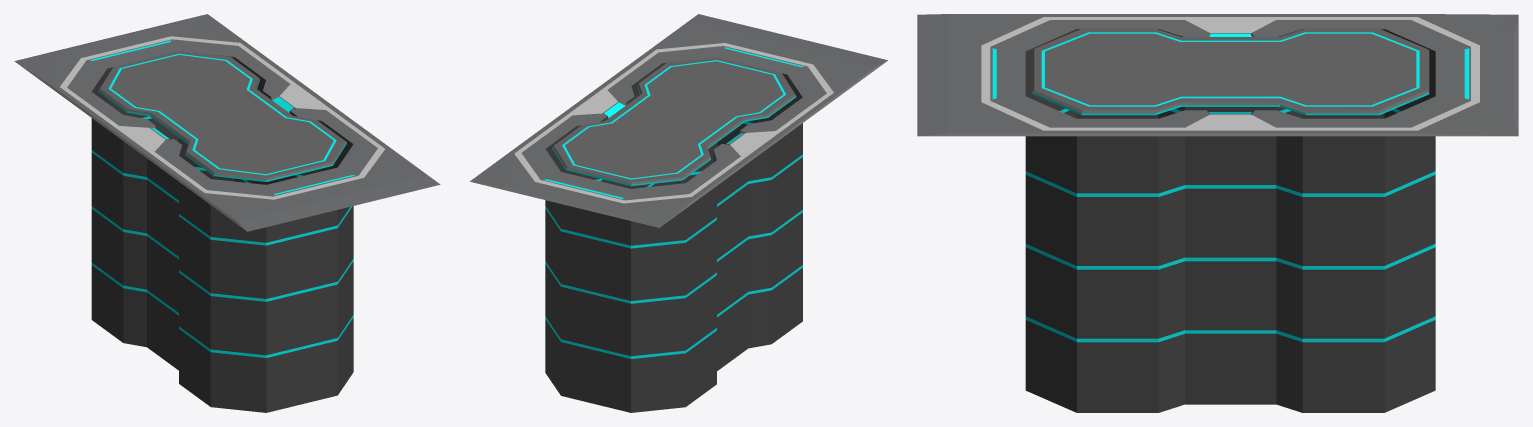
The model's file is Plaza_Lift.fbx.
The picture shows the model from 3 angles, left to right: view 1: azimuth 30°, elevation 25°; view 2: azimuth 150°, elevation 25°; view 3: azimuth 270°, elevation 25°; orthographic projection. The views are drawn at different scales.
Parts seen in each view (by area): view 1: Plaza_Lift; view 2: Plaza_Lift; view 3: Plaza_Lift.
Boxes of the visible parts, left/top/right/bottom form: Plaza_Lift: left=14, top=14, right=440, bottom=412; Plaza_Lift: left=470, top=14, right=887, bottom=412; Plaza_Lift: left=917, top=14, right=1518, bottom=412.
Size of the model in its own units: 12 by 13.73 by 25.06.
